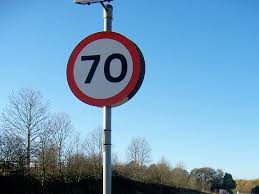Speed_limit_70km: (65, 32, 143, 108)
